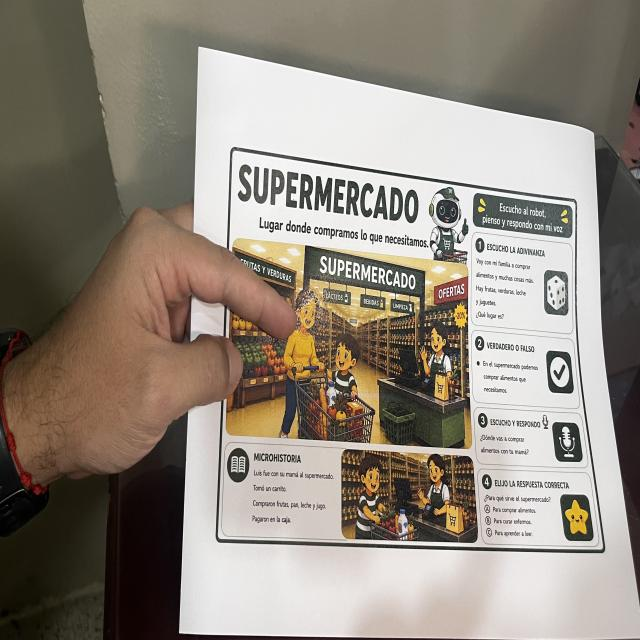supermercado: (213, 141, 608, 560)
